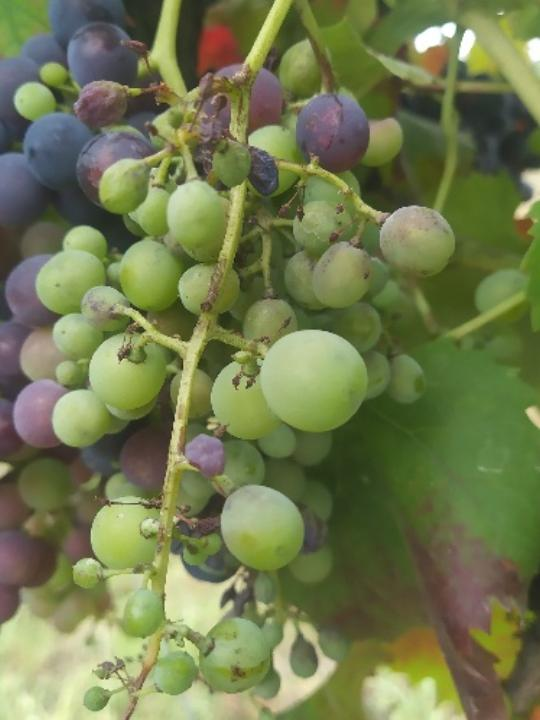grape: (30, 57, 462, 720)
